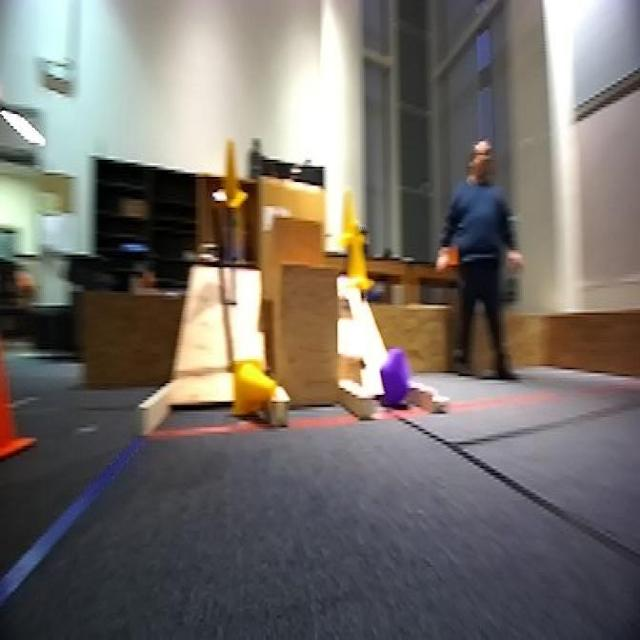frc_cone: (233, 362, 281, 418), (217, 136, 252, 211), (346, 223, 374, 286), (343, 190, 367, 242)
frc_cube: (379, 354, 410, 402)
